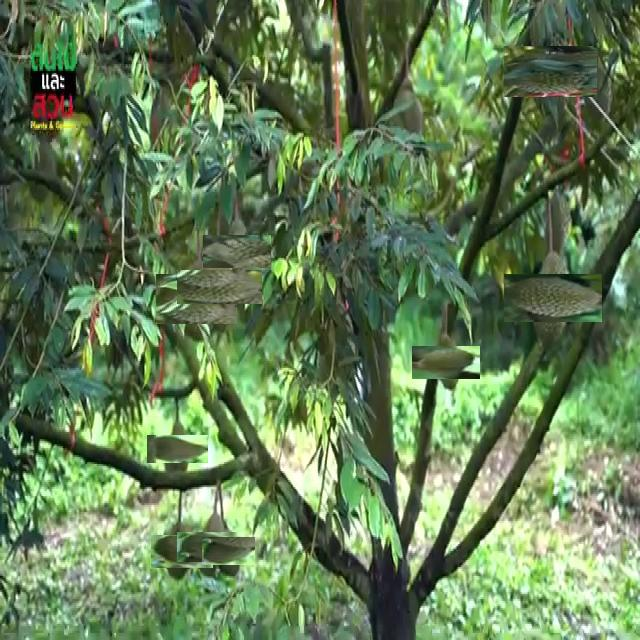durian: (516, 262, 590, 335), (514, 35, 587, 108), (163, 266, 229, 332), (189, 257, 249, 317), (212, 225, 262, 277), (421, 337, 471, 388), (185, 522, 235, 572), (158, 527, 205, 576), (154, 427, 200, 472), (208, 530, 249, 572)
